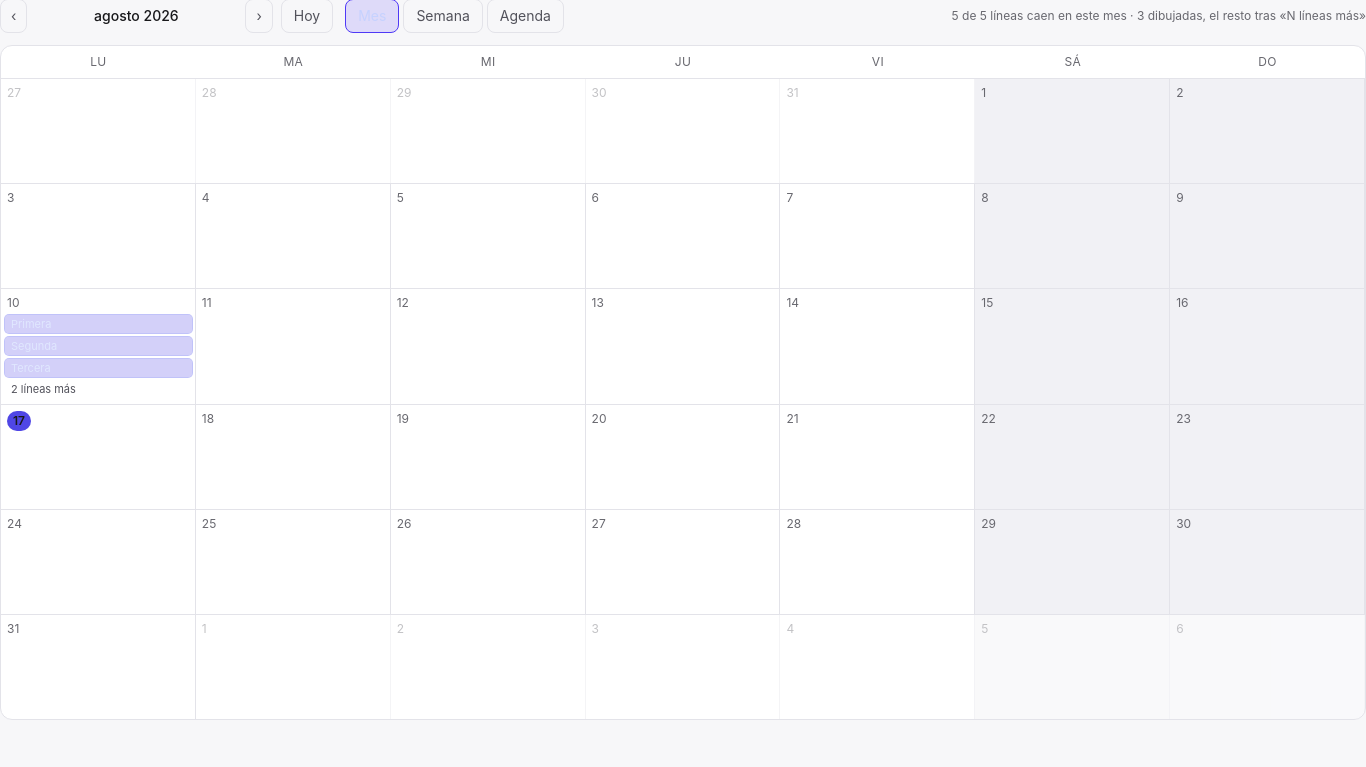
§7.5 · «N líneas más» › despliega exactamente las que escondió
Click the button "2 líneas más".
click(98, 389)  # box [7,381,189,398]
(page scrolled)
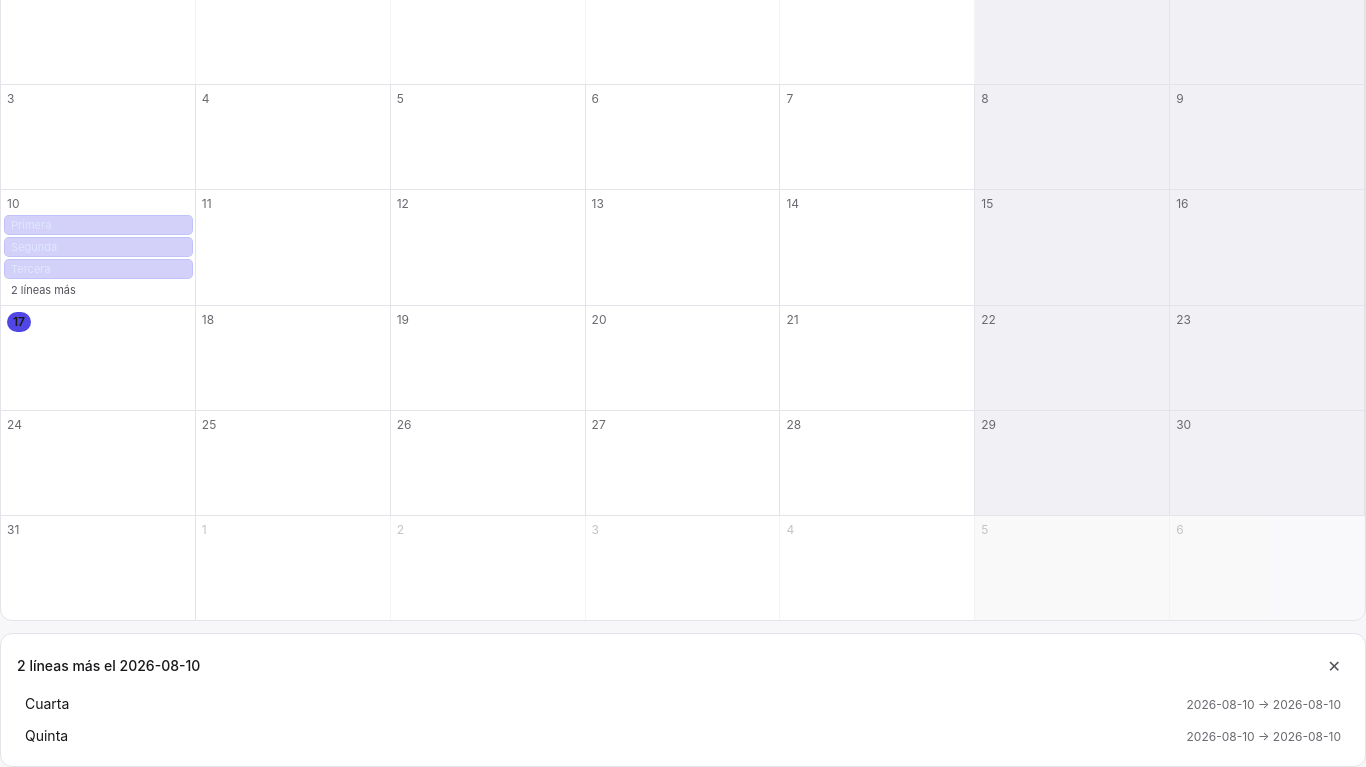
Expected: the text "2 líneas más el 2026-08-10" is shown, [17,656,200,676]
Expected: the text "Cuarta" is shown, [25,694,69,712]
Expected: the text "Quinta" is shown, [25,726,68,744]
